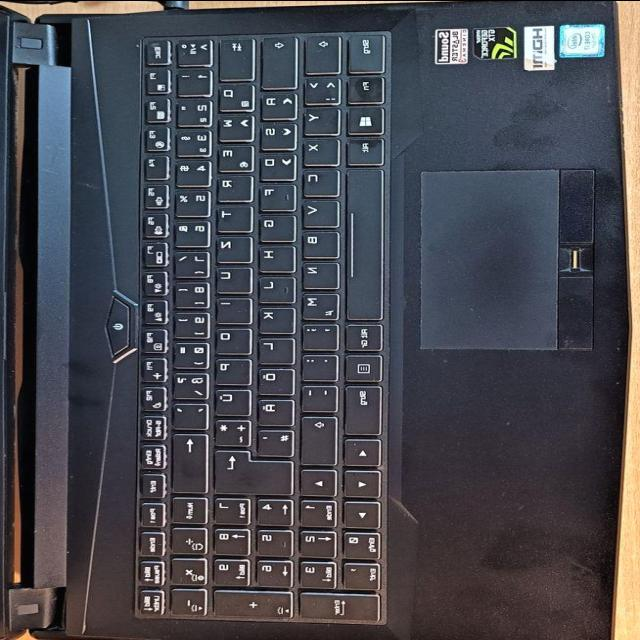0: (169, 338, 206, 365)
1: (172, 65, 209, 93)
2: (172, 96, 210, 123)
3: (171, 126, 209, 153)
4: (171, 157, 208, 183)
5: (171, 186, 208, 214)
6: (170, 217, 207, 243)
7: (170, 247, 207, 275)
8: (170, 278, 208, 305)
9: (169, 308, 207, 335)
a: (256, 89, 294, 117)
accent: (168, 400, 205, 426)
ae: (253, 395, 291, 423)
alt-left: (344, 137, 383, 165)
altgr-right: (344, 323, 383, 351)
b: (297, 227, 335, 255)
c: (298, 165, 336, 193)
caret: (172, 35, 209, 63)
comma: (297, 319, 336, 347)
d: (255, 150, 293, 177)
del: (166, 430, 204, 490)
e: (213, 142, 251, 169)
enter: (207, 446, 291, 492)
f: (254, 181, 293, 208)
g: (254, 211, 292, 239)
h: (254, 242, 292, 269)
hash: (252, 426, 291, 453)
i: (211, 294, 249, 320)
j: (254, 273, 292, 300)
k: (254, 304, 292, 330)
keyboard: (129, 22, 396, 627)
l: (254, 335, 291, 361)
less: (299, 74, 338, 102)
m: (297, 289, 336, 317)
minus: (296, 381, 334, 409)
n: (298, 258, 336, 285)
o: (211, 324, 249, 352)
oe: (253, 364, 291, 392)
p: (210, 354, 249, 381)
plus: (210, 415, 248, 443)
point: (297, 350, 334, 378)
q: (215, 80, 252, 108)
r: (213, 172, 250, 199)
s: (256, 120, 294, 147)
shift-left: (299, 32, 337, 71)
shift-lock: (256, 33, 293, 87)
shift-right: (295, 413, 333, 462)
space: (341, 166, 381, 318)
ss: (168, 368, 206, 396)
strg-left: (347, 32, 386, 73)
strg-right: (344, 384, 382, 435)
t: (212, 202, 249, 229)
tab: (213, 35, 251, 76)
u: (211, 263, 249, 291)
ue: (210, 385, 249, 412)
v: (298, 197, 336, 224)
w: (213, 110, 251, 138)
x: (298, 135, 336, 163)
y: (299, 105, 337, 132)
z: (211, 233, 250, 260)
